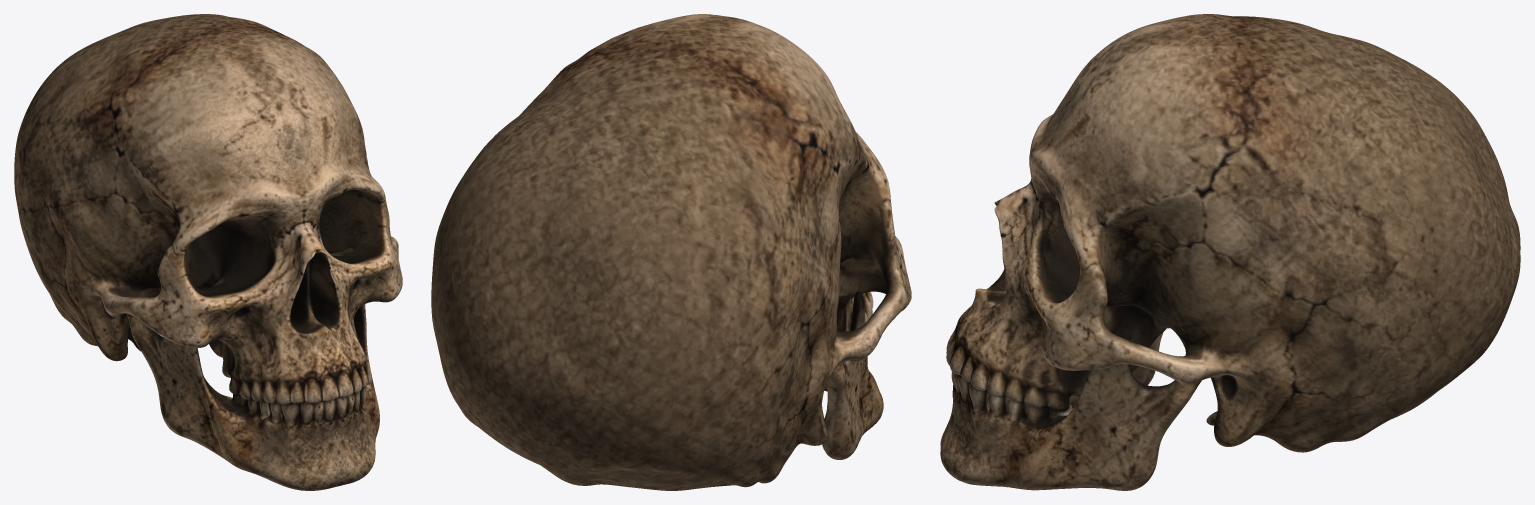
Rendered from Meshy_AI_Ancient_Human_Skull_1020030328_texture.fbx.
3 renders of one model, left to right at view 1: azimuth 30°, elevation 25°; view 2: azimuth 150°, elevation 25°; view 3: azimuth 270°, elevation 25°, orthographic. The views are drawn at different scales.
Parts seen in each view (by area): view 1: Mesh_0; view 2: Mesh_0; view 3: Mesh_0.
Part boxes in pixels (left/top/right/bottom): Mesh_0: left=14, top=14, right=402, bottom=490; Mesh_0: left=431, top=14, right=911, bottom=490; Mesh_0: left=940, top=14, right=1520, bottom=490.
Size of the model in its own units: 123 by 157 by 190.
Materials: 1 (1 with a texture image).
